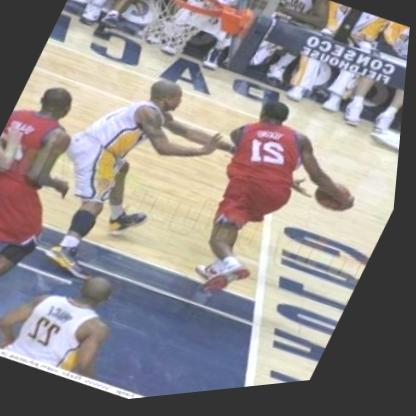basketball: (306, 176, 368, 233)
rim: (120, 0, 230, 64)
